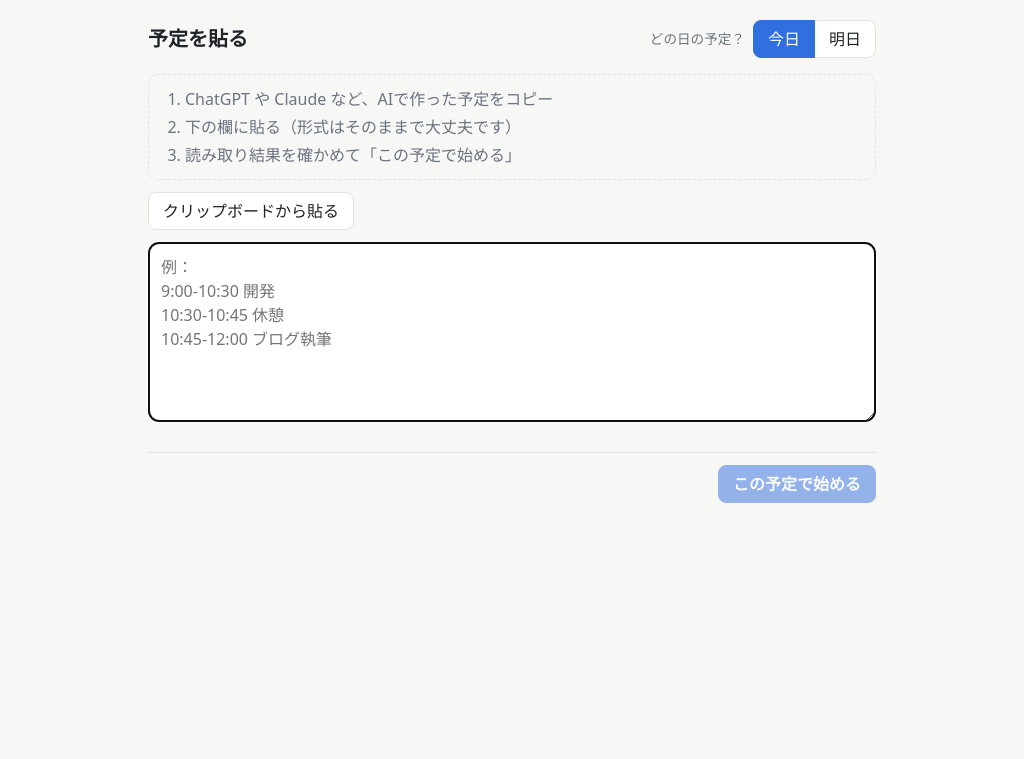
Test: 実行中の分かりやすさ › 完了すると何が始まるかを、押す前に見せる
This screenshot has width=1024, height=759.
Type "時間 内容 9:00–10:30 開発①（1.5h） 10:30–10:45 休憩 10:45–12:15 開発②（1.5h） 12:15–13:15 ランニング（60分） 13:15–14:15 シャワー・昼食 14:15–15:45 Notion × Discord連携①（1.5h） 15:45–16:00 休憩 16:00–17:00 Notion × Discord連携②（1h） 17:0" into the text box named "予定のテキスト" at (512, 332), box [148,242,876,422]
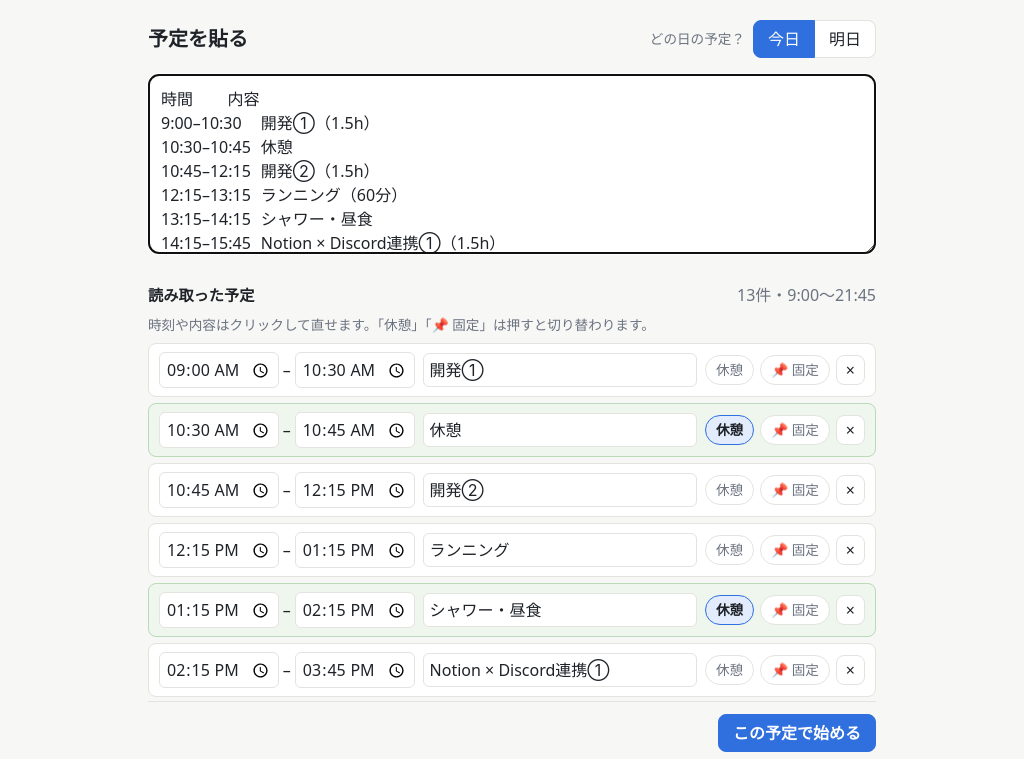
Click the button "この予定で始める" at (797, 733), box [718,714,876,752]
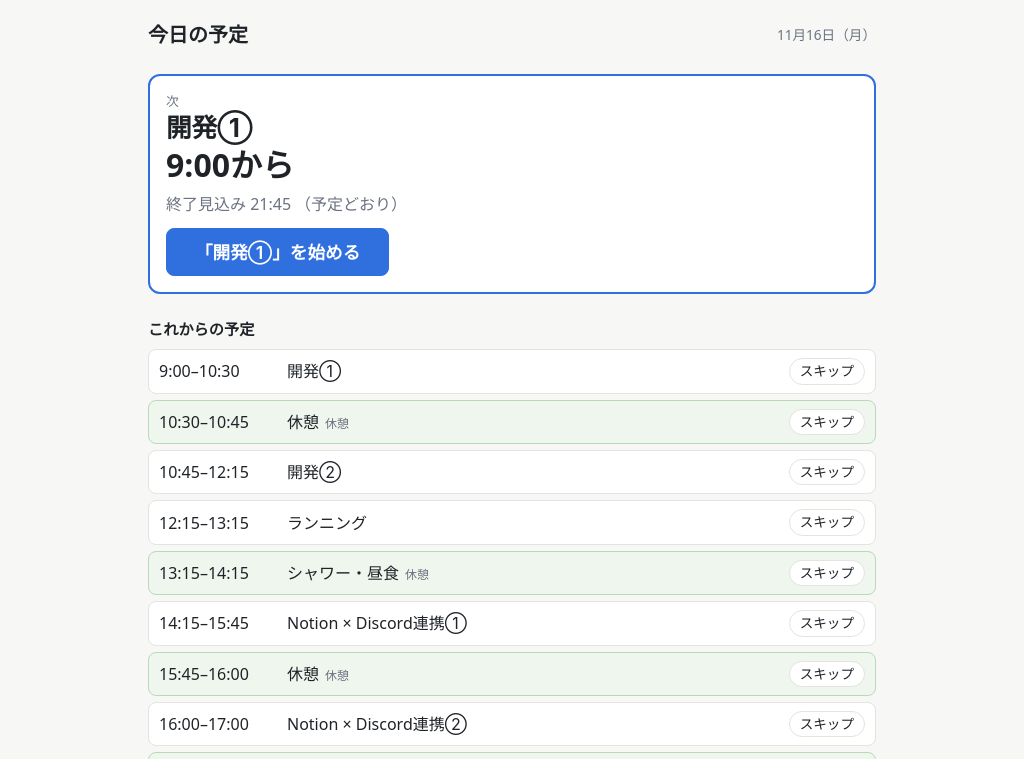
Click the button "「開発①」を始める" at (278, 252), box [166,228,389,276]
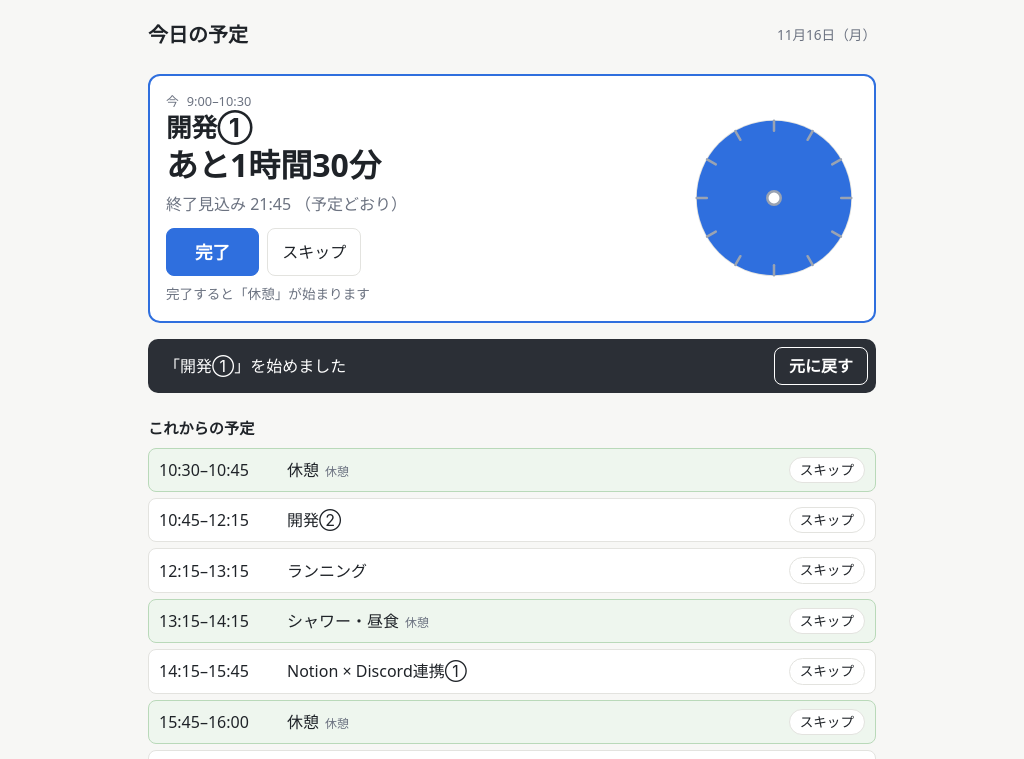
expect the text "完了すると「休憩」が始まります" is shown: met, box [166,284,370,303]
